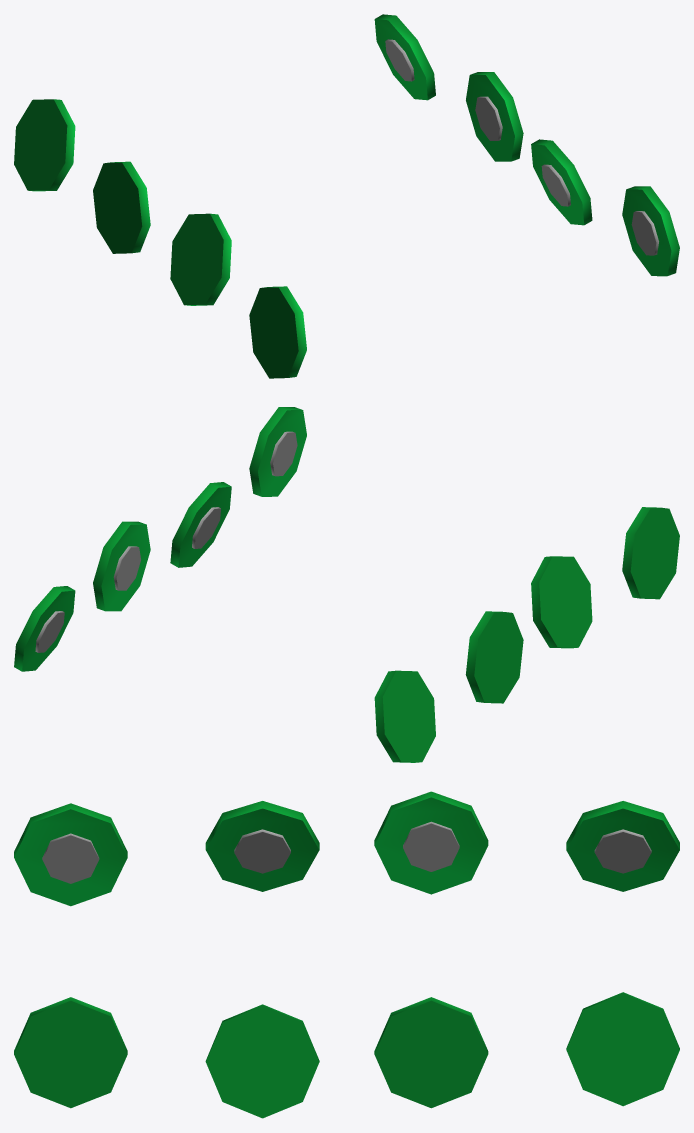
Rendered from MINE02.glb.
3 renders of one model, top to bottom at view 1: azimuth 30°, elevation 25°; view 2: azimuth 150°, elevation 25°; view 3: azimuth 270°, elevation 25°, orthographic. The views are drawn at different scales.
Parts seen in each view (by area): view 1: FRAME_ROOT; view 2: FRAME_ROOT; view 3: FRAME_ROOT.
Part boxes in pixels (x1,y1,x2,y2): FRAME_ROOT: (14, 14, 679, 378); FRAME_ROOT: (14, 407, 679, 762); FRAME_ROOT: (14, 791, 679, 1118).
Bounding box in the file's own units: 4.62 × 1.12 × 5.86.
Materials: 1 (1 with a texture image).
